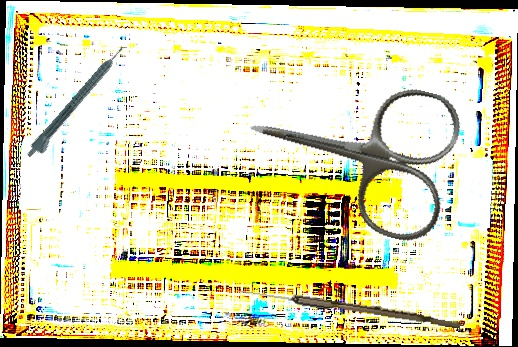Handpiece: (24, 43, 132, 164)
Iris Scissors: (232, 52, 468, 248)
Surgical Spoon: (236, 286, 462, 329)
